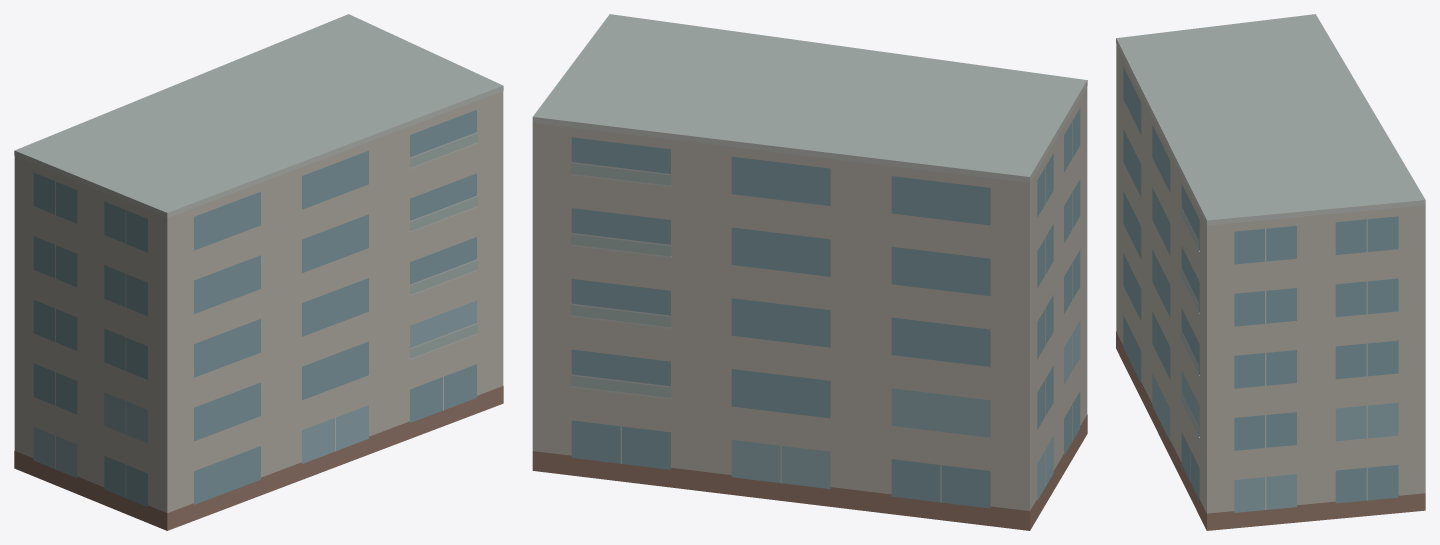
Rendered from survey-upis-33044179.glb.
The picture shows the model from 3 angles, left to right: view 1: azimuth 30°, elevation 25°; view 2: azimuth 150°, elevation 25°; view 3: azimuth 270°, elevation 25°; orthographic projection. The views are drawn at different scales.
Visible parts, largest first — view 1: survey-upis-33044179.tmp; view 2: survey-upis-33044179.tmp; view 3: survey-upis-33044179.tmp.
Boxes of the visible parts, left/top/right/bottom form: survey-upis-33044179.tmp: left=14, top=14, right=503, bottom=530; survey-upis-33044179.tmp: left=532, top=14, right=1087, bottom=530; survey-upis-33044179.tmp: left=1116, top=14, right=1425, bottom=530.
Size of the model in its own units: 21.11 by 14.8 by 13.39.
